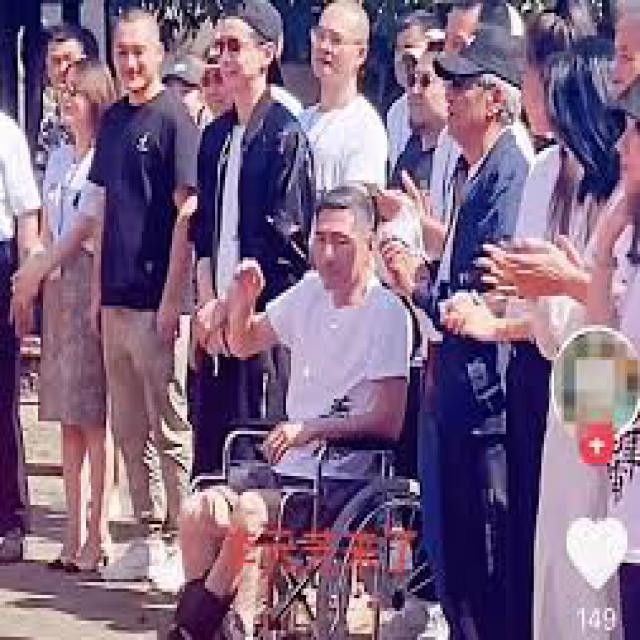wheelchairs: (222, 334, 432, 637)
